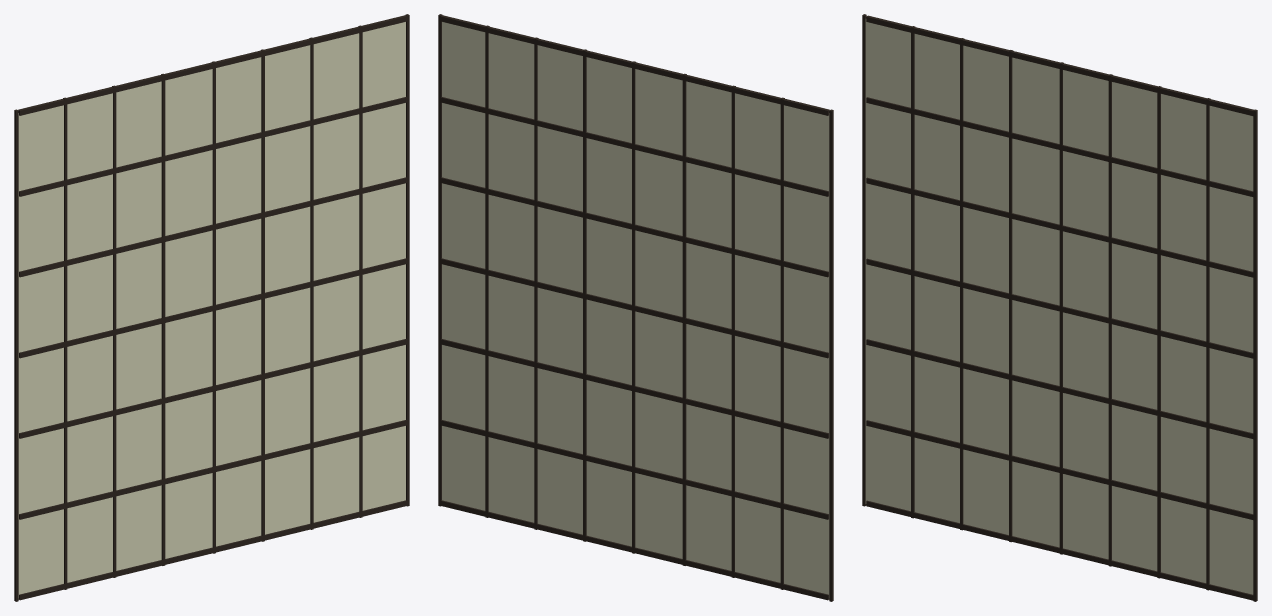
The model's file is ScreenDoor.fbx.
3 renders of one model, left to right at view 1: azimuth 30°, elevation 25°; view 2: azimuth 150°, elevation 25°; view 3: azimuth 330°, elevation 25°, orthographic.
Parts seen in each view (by area): view 1: RiggingWall3; view 2: RiggingWall3; view 3: RiggingWall3.
Part boxes in pixels (left/top/right/bottom): RiggingWall3: left=14, top=14, right=409, bottom=601; RiggingWall3: left=438, top=14, right=833, bottom=601; RiggingWall3: left=862, top=14, right=1257, bottom=601.
Size of the model in its own units: 0.2417 by 0.2879 by 0.00188.
